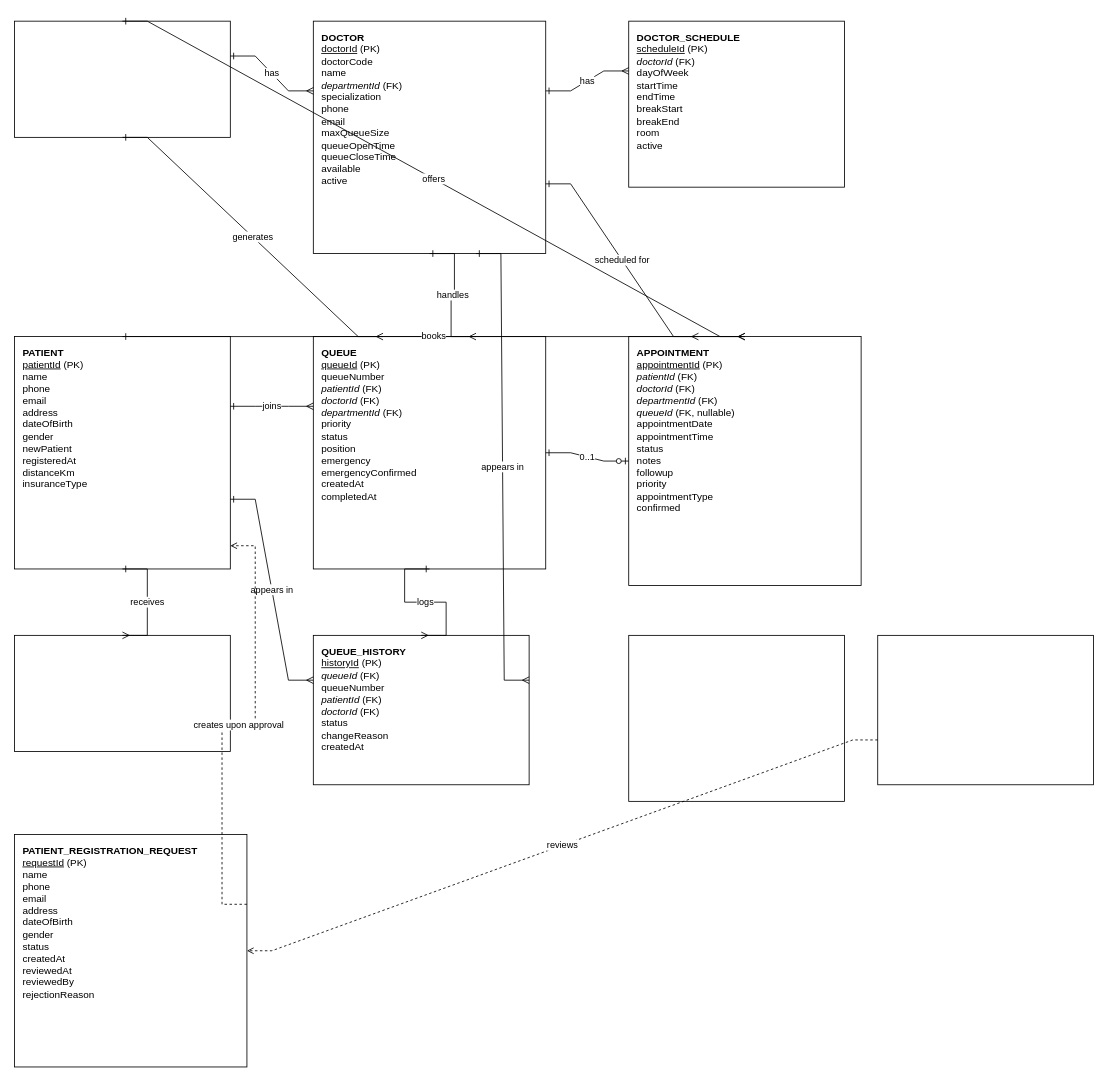
Image size: 1108x1081. Some labels were removed from this diagram. Each missing label, with the centre of its shape:
"ADMIN_USER adminId (PK) username name email role active createdAt" belongs at point 985,710.
"DEPARTMENT departmentId (PK) departmentCode departmentName active" belongs at point 122,78.
"NOTIFICATION notificationId (PK) patientId (FK) message read createdAt" belongs at point 122,693.
"STAFF staffId (PK) staffCode name phone email role active createdAt" belongs at point 736,718.
